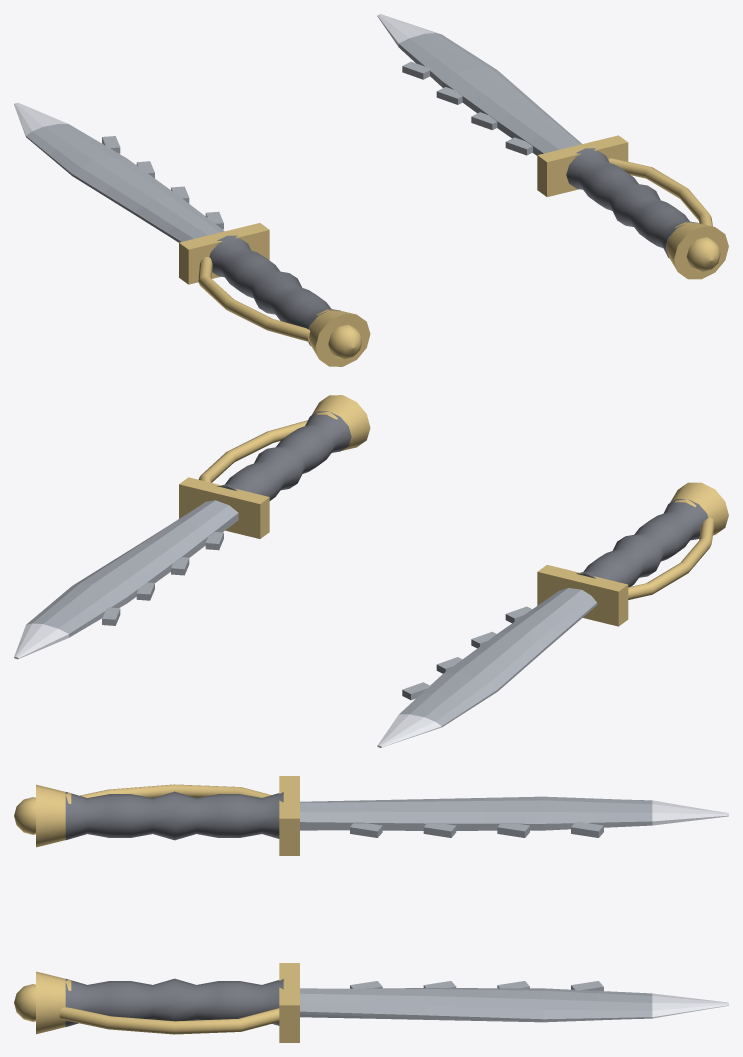
The model's file is art_serrated_skewers.fbx.
3 views of the same model, one above another, from view 1: azimuth 30°, elevation 25°; view 2: azimuth 150°, elevation 25°; view 3: azimuth 270°, elevation 25° (orthographic). The views are drawn at different scales.
Parts seen in each view (by area): view 1: BladeL, Blade, Handle, HandleL, CrossguardL, Crossguard, Pommel, PommelL, BackSpike, BackSpikeL, BladeEdgeL, BladeEdge; view 2: BladeL, Blade, Handle, HandleL, CrossguardL, Crossguard, Pommel, PommelL, BackSpike, BladeEdge, BladeEdgeL, BackSpikeL; view 3: Blade, BladeL, HandleL, Handle, Crossguard, CrossguardL, PommelL, Pommel, BackSpikeL, BladeEdge, BladeEdgeL, BackSpike.
Part boxes in pixels (left/top/right/bottom): BladeL: left=26, top=124, right=224, bottom=242; Blade: left=398, top=33, right=581, bottom=155; Handle: left=566, top=148, right=697, bottom=258; HandleL: left=209, top=235, right=340, bottom=345; CrossguardL: left=179, top=223, right=310, bottom=341; Crossguard: left=537, top=135, right=712, bottom=226; Pommel: left=666, top=222, right=728, bottom=279; PommelL: left=309, top=309, right=370, bottom=366; BackSpike: left=402, top=61, right=532, bottom=155; BackSpikeL: left=102, top=136, right=223, bottom=229; BladeEdgeL: left=14, top=102, right=67, bottom=136; BladeEdge: left=377, top=14, right=439, bottom=46; BladeL: left=399, top=588, right=597, bottom=727; Blade: left=26, top=500, right=238, bottom=637; Handle: left=217, top=411, right=351, bottom=500; HandleL: left=576, top=499, right=708, bottom=587; CrossguardL: left=537, top=517, right=714, bottom=626; Crossguard: left=179, top=420, right=307, bottom=538; Pommel: left=311, top=395, right=370, bottom=450; PommelL: left=670, top=482, right=728, bottom=535; BackSpike: left=102, top=532, right=223, bottom=625; BladeEdge: left=14, top=623, right=68, bottom=659; BladeEdgeL: left=377, top=714, right=441, bottom=747; BackSpikeL: left=402, top=606, right=532, bottom=700; Blade: left=300, top=988, right=652, bottom=1022; BladeL: left=300, top=796, right=652, bottom=830; HandleL: left=65, top=791, right=283, bottom=840; Handle: left=65, top=978, right=283, bottom=1026; Crossguard: left=59, top=963, right=299, bottom=1042; CrossguardL: left=80, top=776, right=299, bottom=855; PommelL: left=14, top=784, right=71, bottom=847; Pommel: left=14, top=971, right=71, bottom=1034; BackSpikeL: left=350, top=822, right=603, bottom=837; BladeEdge: left=652, top=993, right=728, bottom=1018; BladeEdgeL: left=652, top=800, right=728, bottom=825; BackSpike: left=350, top=981, right=603, bottom=990.
Size of the model in its own units: 195 by 21 by 242.
